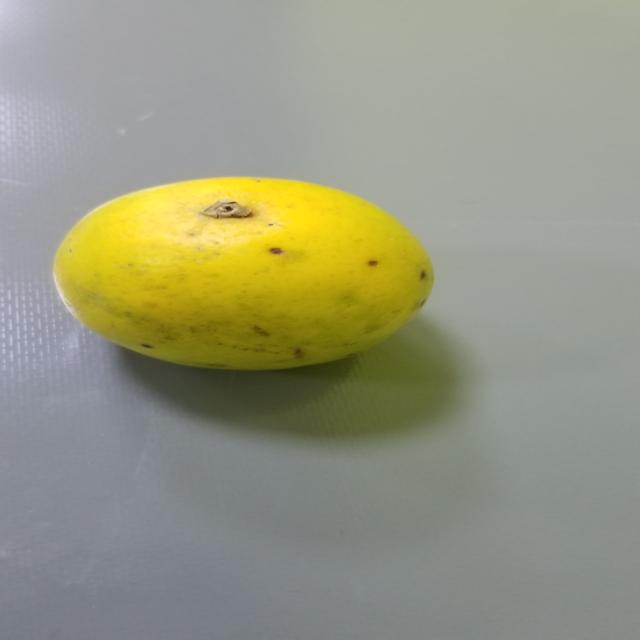agrume: (32, 178, 440, 382)
